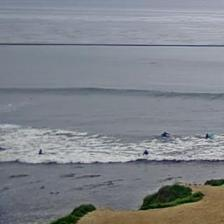surfer: (161, 132, 169, 136), (38, 149, 43, 155), (143, 150, 149, 155), (205, 133, 209, 138)
